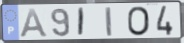4: (156, 5, 175, 38)
9: (49, 7, 72, 38)
A: (19, 8, 50, 38)
I: (104, 6, 114, 38), (77, 7, 86, 38)
O: (127, 5, 152, 37)
